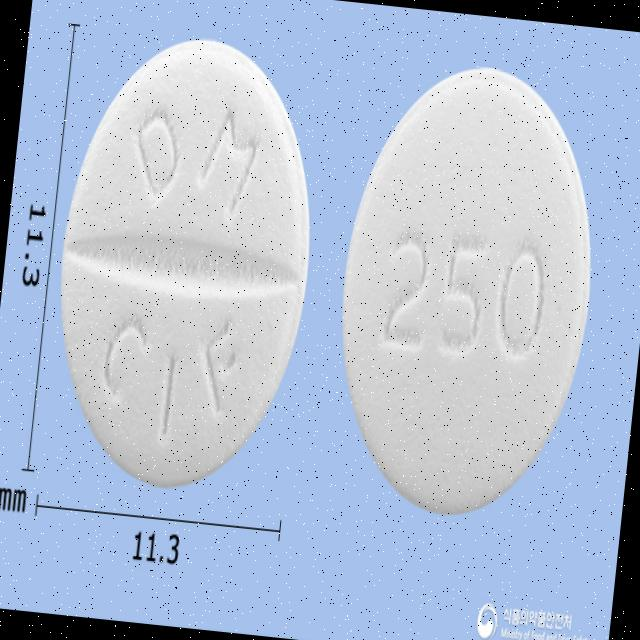Cifxacin: (314, 46, 617, 538), (36, 19, 336, 506)
